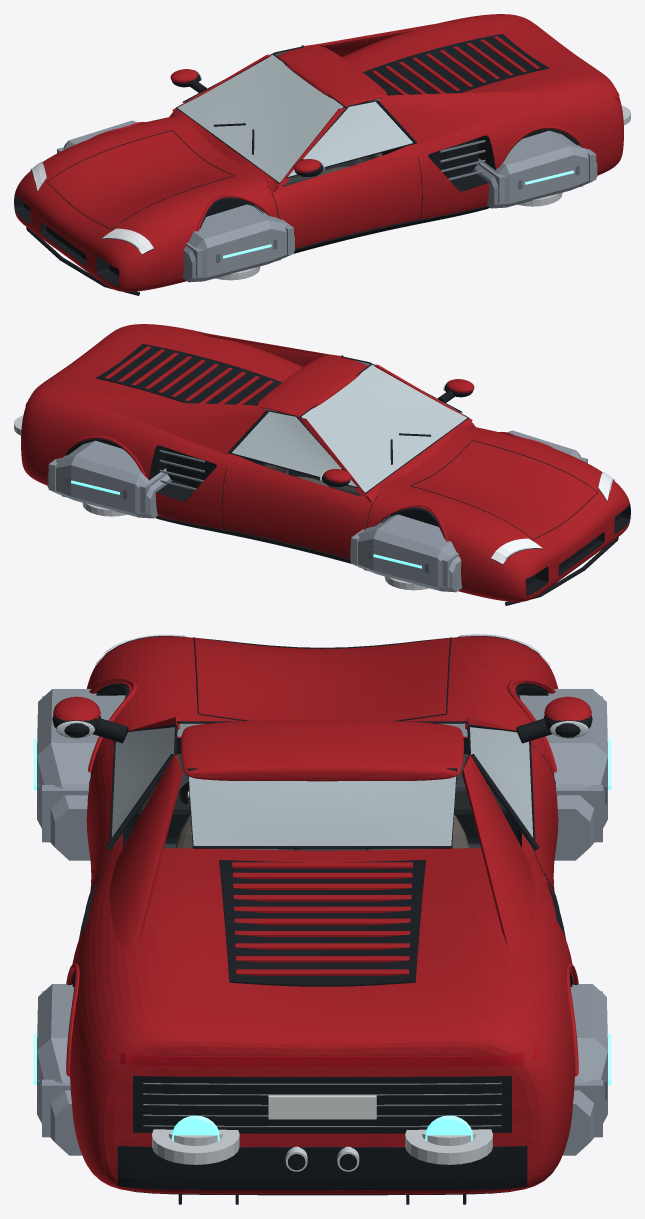
File: CC0_Supercar_VISIBLE_HOVER_PODS.glb
3 views of the same model, one above another, from view 1: azimuth 30°, elevation 25°; view 2: azimuth 150°, elevation 25°; view 3: azimuth 270°, elevation 25° (orthographic). The views are drawn at different scales.
Visible parts, largest first — view 1: Original_mid-engine_supercar_sculpted_body_shell_54c504, Raked_transparent_windscreen, Separate_closed_door_panel_eb3a2f, HOVER_POD_FRONT_STBD_TAPERED_ARMOUR_CASSETTE, HOVER_POD_REAR_STBD_TAPERED_ARMOUR_CASSETTE, Engine_cover_vent_recess, Flying_buttress_sail, Canopy_side_door_glass, Low_crowned_canopy_roof, Original_mid-engine_supercar_sculpted_body_shell_11221c, Flying_buttress_sail.001, Windscreen_base_cowl_panel (+7 smaller); view 2: Original_mid-engine_supercar_sculpted_body_shell_54c504, Raked_transparent_windscreen, Separate_closed_door_panel.001_ef3f37, HOVER_POD_FRONT_PORT_TAPERED_ARMOUR_CASSETTE, HOVER_POD_REAR_PORT_TAPERED_ARMOUR_CASSETTE, Engine_cover_vent_recess, Flying_buttress_sail.001, Canopy_side_door_glass.001, Low_crowned_canopy_roof, Original_mid-engine_supercar_sculpted_body_shell_11221c, Flying_buttress_sail, Windscreen_base_cowl_panel (+7 smaller); view 3: Original_mid-engine_supercar_sculpted_body_shell_54c504, Rear_bulkhead_transparent_glass, Rear_engine-bay_grille, Low_crowned_canopy_roof, Rear_diffuser, Engine_cover_vent_recess, HOVER_POD_FRONT_PORT_TAPERED_ARMOUR_CASSETTE, HOVER_POD_FRONT_STBD_TAPERED_ARMOUR_CASSETTE, Flying_buttress_sail.001, Flying_buttress_sail, HOVER_POD_REAR_PORT_TAPERED_ARMOUR_CASSETTE, HOVER_POD_REAR_STBD_TAPERED_ARMOUR_CASSETTE (+30 smaller).
Boxes of the visible parts, box(x1,y1,x2,y2) form: Original_mid-engine_supercar_sculpted_body_shell_54c504: box(14, 14, 623, 291); Raked_transparent_windscreen: box(177, 54, 343, 182); Separate_closed_door_panel_eb3a2f: box(268, 156, 422, 248); HOVER_POD_FRONT_STBD_TAPERED_ARMOUR_CASSETTE: box(182, 204, 294, 282); HOVER_POD_REAR_STBD_TAPERED_ARMOUR_CASSETTE: box(472, 130, 597, 208); Engine_cover_vent_recess: box(363, 34, 548, 95); Flying_buttress_sail: box(377, 90, 544, 144); Canopy_side_door_glass: box(288, 101, 412, 176); Low_crowned_canopy_roof: box(277, 45, 388, 107); Original_mid-engine_supercar_sculpted_body_shell_11221c: box(14, 101, 579, 285); Flying_buttress_sail.001: box(303, 22, 448, 56); Windscreen_base_cowl_panel: box(169, 108, 279, 192); Original_mid-engine_supercar_sculpted_body_shell_54c504: box(21, 324, 630, 601); Raked_transparent_windscreen: box(301, 364, 467, 492); Separate_closed_door_panel.001_ef3f37: box(222, 466, 376, 558); HOVER_POD_FRONT_PORT_TAPERED_ARMOUR_CASSETTE: box(350, 514, 462, 592); HOVER_POD_REAR_PORT_TAPERED_ARMOUR_CASSETTE: box(47, 440, 172, 518); Engine_cover_vent_recess: box(96, 344, 281, 405); Flying_buttress_sail.001: box(100, 400, 267, 454); Canopy_side_door_glass.001: box(232, 411, 356, 486); Low_crowned_canopy_roof: box(256, 355, 367, 417); Original_mid-engine_supercar_sculpted_body_shell_11221c: box(65, 411, 630, 595); Flying_buttress_sail: box(196, 332, 341, 366); Windscreen_base_cowl_panel: box(365, 418, 475, 502); Original_mid-engine_supercar_sculpted_body_shell_54c504: box(70, 636, 574, 1194); Rear_bulkhead_transparent_glass: box(189, 776, 456, 845); Rear_engine-bay_grille: box(133, 1075, 511, 1133); Low_crowned_canopy_roof: box(181, 720, 463, 781); Rear_diffuser: box(117, 1145, 527, 1195); Engine_cover_vent_recess: box(219, 860, 425, 986); HOVER_POD_FRONT_PORT_TAPERED_ARMOUR_CASSETTE: box(519, 689, 607, 860); HOVER_POD_FRONT_STBD_TAPERED_ARMOUR_CASSETTE: box(37, 689, 125, 860); Flying_buttress_sail.001: box(462, 754, 535, 950); Flying_buttress_sail: box(109, 754, 182, 950); HOVER_POD_REAR_PORT_TAPERED_ARMOUR_CASSETTE: box(562, 984, 607, 1155); HOVER_POD_REAR_STBD_TAPERED_ARMOUR_CASSETTE: box(37, 984, 82, 1155).
Size of the model in its own units: 4.8 by 1.07 by 2.23.
15 materials, 10 textured.
